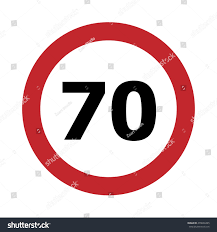Speed_limit_70km: (20, 22, 195, 195)
